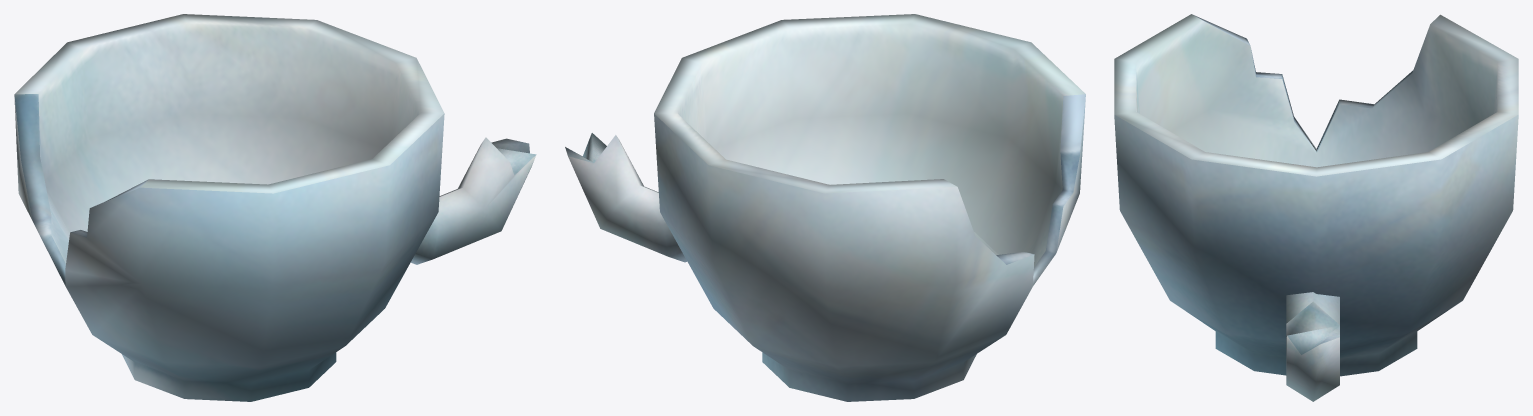
The model's file is 3D_recycle_trash_glass03.FBX.
The picture shows the model from 3 angles, left to right: view 1: azimuth 30°, elevation 25°; view 2: azimuth 150°, elevation 25°; view 3: azimuth 270°, elevation 25°; orthographic projection. The views are drawn at different scales.
Parts seen in each view (by area): view 1: 3D_recycle_trash_glass03; view 2: 3D_recycle_trash_glass03; view 3: 3D_recycle_trash_glass03.
Part boxes in pixels (box(x1,y1,x2,y2)): 3D_recycle_trash_glass03: box(14, 14, 536, 401); 3D_recycle_trash_glass03: box(565, 14, 1085, 401); 3D_recycle_trash_glass03: box(1114, 14, 1518, 401).
Bounding box in the file's own units: 0.3899 × 0.1971 × 0.2912.
